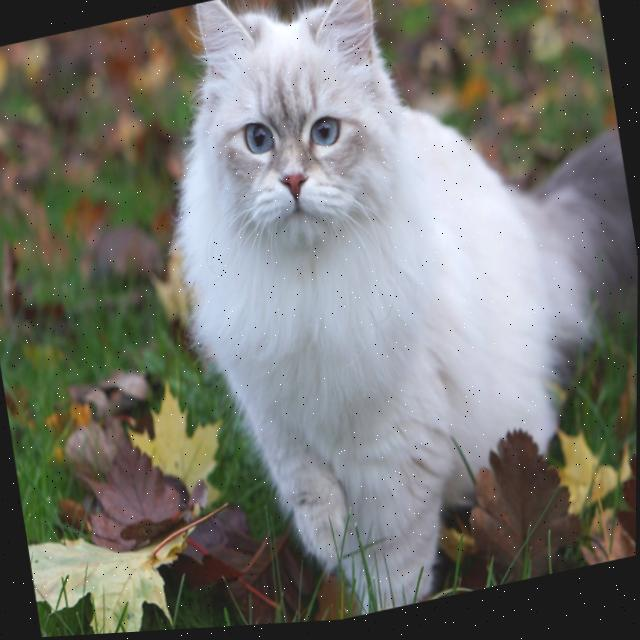Neva Masquerade: (122, 0, 640, 634)
